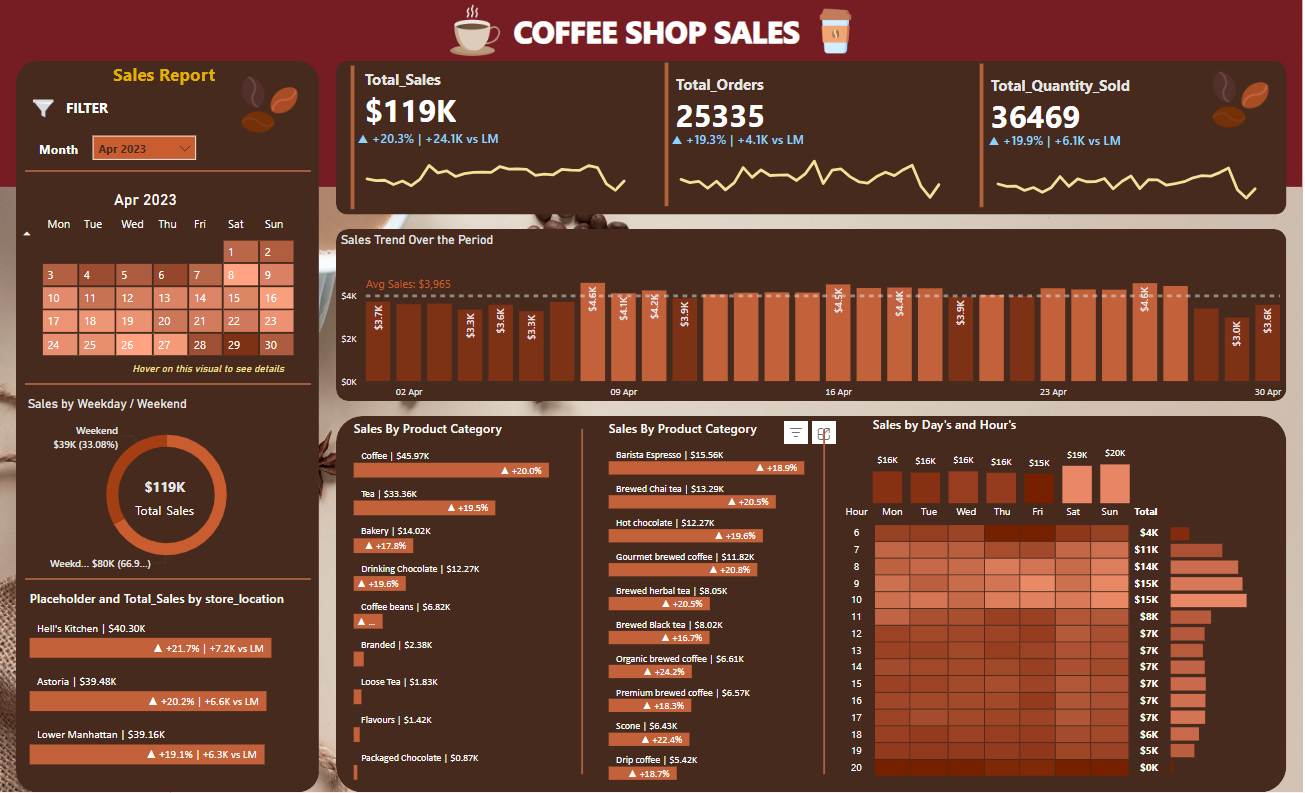

This screenshot's page, from the dashboard's own definition file:
{"tool":"powerbi","page":{"name":"Page 1","canvas":[1400,850],"ordinal":0},"visuals":[{"type":"cardVisual","fields":{"Data":["Transactions.Total_Quantity_Sold"]},"box":[1047.9,63.8,314.8,164.7],"z":0,"group":"g3"},{"type":"shape","box":[361.2,446.2,1020,404],"z":0},{"type":"shape","box":[0,0,1398.5,200.5],"z":1000},{"type":"lineChart","fields":{"Category":["Date Table.Date.Variation.Date Hierarchy.Year","Date Table.Date.Variation.Date Hierarchy.Quarter","Date Table.Date.Variation.Date Hierarchy.Month","Date Table.Date.Variation.Date Hierarchy.Day"],"Y":["Transactions.Total_Quantity_Sold"]},"box":[1057.2,142.2,306,86.3],"z":1000,"group":"g3"},{"type":"shape","box":[361.2,65.1,1020,164.7],"z":2000},{"type":"cardVisual","fields":{"Data":["Transactions.Total_Sales"]},"box":[371.9,65.1,314.8,164.7],"z":2000,"group":"g1"},{"type":"shape","box":[18.6,65.1,325.4,784.9],"z":3000},{"type":"lineChart","fields":{"Category":["Date Table.Date.Variation.Date Hierarchy.Year","Date Table.Date.Variation.Date Hierarchy.Quarter","Date Table.Date.Variation.Date Hierarchy.Month","Date Table.Date.Variation.Date Hierarchy.Day"],"Y":["Transactions.Total_Sales"]},"box":[379.9,139.5,306,86.3],"z":3000,"group":"g1"},{"type":"textbox","box":[547.2,6.6,326.7,58.4],"z":4000},{"type":"slicer","fields":{"Values":["Date Table.Month_year"]},"box":[95.3,140.8,120.9,34.5],"z":5000},{"type":"group","id":"g1","title":"Group 1","box":[371.9,65.1,314.8,164.7],"z":6000},{"type":"cardVisual","fields":{"Data":["Transactions.Total_Orders"]},"box":[709.9,62.4,314.8,164.7],"z":6500,"group":"g2"},{"type":"group","id":"g2","title":"Group 2","box":[709.9,62.4,314.8,164.7],"z":7000},{"type":"lineChart","fields":{"Category":["Date Table.Date.Variation.Date Hierarchy.Year","Date Table.Date.Variation.Date Hierarchy.Quarter","Date Table.Date.Variation.Date Hierarchy.Month","Date Table.Date.Variation.Date Hierarchy.Day"],"Y":["Transactions.Total_Orders"]},"box":[717.9,140.8,306.8,86.3],"z":7500,"group":"g2"},{"type":"group","id":"g3","title":"Group 3","box":[1047.9,63.8,315.3,164.7],"z":8000},{"type":"pivotTable","fields":{"Rows":["Date Table.Week Number"],"Columns":["Date Table.Day Name"],"Values":["Min(Date Table.DAY Number)"]},"box":[15.9,222.8,313.4,189.9],"z":9000},{"type":"card","fields":{"Values":["Min(Date Table.Month_year)"]},"box":[107.6,197.6,99.6,34.5],"z":10000},{"type":"card","fields":{"Values":["Transactions.Foot Note"]},"box":[128.8,382.2,191.2,30.5],"z":11000},{"type":"shape","box":[27.9,170,306.8,27.9],"z":12000},{"type":"shape","box":[27.9,398.4,306.8,27.9],"z":13000},{"type":"donutChart","title":"Sales by Weekday / Weekend","fields":{"Category":["Date Table.Weekday / Weekend"],"Y":["Transactions.Total_Sales"]},"box":[25.2,426.3,308.1,195.2],"z":14000},{"type":"card","fields":{"Values":["Transactions.Total_Sales"]},"box":[135.5,508.7,85,49.1],"z":15000},{"type":"shape","box":[27.9,607,306.8,27.9],"z":16000},{"type":"clusteredBarChart","fields":{"Category":["Transactions.store_location"],"Y":["Transactions.Placeholder","Transactions.Total_Sales"]},"box":[27.9,633.5,304.1,195.2],"z":17000},{"type":"shape","box":[361.2,245.7,1020,184.6],"z":18000},{"type":"columnChart","title":"Sales Trend Over the Period","fields":{"Category":["Transactions.transaction_date"],"Y":["Transactions.Total_Sales"]},"box":[361.2,249.7,1020,185.9],"z":19000},{"type":"clusteredBarChart","title":"Sales By Product Category","fields":{"Y":["Transactions.Placeholder","Transactions.Total_Sales"],"Category":["Transactions.product_category"]},"box":[375.9,450.2,249.7,391.8],"z":20000},{"type":"shape","box":[613.6,460.9,23.9,370.5],"z":21000},{"type":"clusteredBarChart","title":"Sales By Product Category","fields":{"Y":["Transactions.Placeholder","Transactions.Total_Sales"],"Category":["Transactions.product_type"]},"box":[649.5,450.2,249.7,391.8],"z":22000},{"type":"shape","box":[873.9,460.9,23.9,370.5],"z":23000},{"type":"pivotTable","fields":{"Rows":["Transactions.Hour"],"Columns":["Date Table.Day Name"],"Values":["Transactions.Total_Sales"]},"box":[896.5,535.2,370.5,308.1],"z":24000},{"type":"barChart","fields":{"Category":["Transactions.Hour"],"Y":["Transactions.Total_Sales"]},"box":[1252.4,552.5,115.5,282.9],"z":25000},{"type":"columnChart","title":"Sales by Day''s and Hour''s","fields":{"Y":["Transactions.Total_Sales"],"Category":["Date Table.Day Name"]},"box":[932.3,446.2,286.9,99.6],"z":26000},{"type":"textbox","box":[23.6,146.1,66.4,30.5],"z":27000},{"type":"textbox","box":[98.3,62.4,156.7,35.9],"z":28000},{"type":"textbox","box":[61.1,99.6,66.4,30.5],"z":29000},{"type":"image","box":[27.9,93,38.5,45.2],"z":30000},{"type":"image","box":[863.3,4,70.4,58.4],"z":31000},{"type":"image","box":[475.5,0,71.7,65.1],"z":33000},{"type":"image","box":[1297.6,71.7,70.4,70.4],"z":34000},{"type":"image","box":[255,77,70.4,70.4],"z":35000}]}

Visuals, with their boxes in screenshot pixels (x1, y1, x2, y2), scaled from the page's 1400x850 canvas onto the 1305x793 screenshot:
cardVisual - Transactions.Total_Quantity_Sold: {"x1": 977, "y1": 60, "x2": 1270, "y2": 213}
shape: {"x1": 337, "y1": 416, "x2": 1287, "y2": 792}
shape: {"x1": 0, "y1": 0, "x2": 1304, "y2": 187}
lineChart - Date Table.Date.Variation.Date Hierarchy.Year x Date Table.Date.Variation.Date Hierarchy.Quarter: {"x1": 985, "y1": 133, "x2": 1271, "y2": 213}
shape: {"x1": 337, "y1": 61, "x2": 1287, "y2": 214}
cardVisual - Transactions.Total_Sales: {"x1": 347, "y1": 61, "x2": 640, "y2": 214}
shape: {"x1": 17, "y1": 61, "x2": 321, "y2": 792}
lineChart - Date Table.Date.Variation.Date Hierarchy.Year x Date Table.Date.Variation.Date Hierarchy.Quarter: {"x1": 354, "y1": 130, "x2": 639, "y2": 211}
textbox: {"x1": 510, "y1": 6, "x2": 815, "y2": 61}
slicer - Date Table.Month_year: {"x1": 89, "y1": 131, "x2": 202, "y2": 164}
"Group 1" group: {"x1": 347, "y1": 61, "x2": 640, "y2": 214}
cardVisual - Transactions.Total_Orders: {"x1": 662, "y1": 58, "x2": 955, "y2": 212}
"Group 2" group: {"x1": 662, "y1": 58, "x2": 955, "y2": 212}
lineChart - Date Table.Date.Variation.Date Hierarchy.Year x Date Table.Date.Variation.Date Hierarchy.Quarter: {"x1": 669, "y1": 131, "x2": 955, "y2": 212}
"Group 3" group: {"x1": 977, "y1": 60, "x2": 1271, "y2": 213}
pivotTable - Date Table.Week Number x Date Table.Day Name: {"x1": 15, "y1": 208, "x2": 307, "y2": 385}
card - Min(Date Table.Month_year): {"x1": 100, "y1": 184, "x2": 193, "y2": 217}
card - Transactions.Foot Note: {"x1": 120, "y1": 357, "x2": 298, "y2": 385}
shape: {"x1": 26, "y1": 159, "x2": 312, "y2": 185}
shape: {"x1": 26, "y1": 372, "x2": 312, "y2": 398}
"Sales by Weekday / Weekend" donutChart: {"x1": 23, "y1": 398, "x2": 311, "y2": 580}
card - Transactions.Total_Sales: {"x1": 126, "y1": 475, "x2": 206, "y2": 520}
shape: {"x1": 26, "y1": 566, "x2": 312, "y2": 592}
clusteredBarChart - Transactions.store_location x Transactions.Placeholder: {"x1": 26, "y1": 591, "x2": 309, "y2": 773}
shape: {"x1": 337, "y1": 229, "x2": 1287, "y2": 401}
"Sales Trend Over the Period" columnChart: {"x1": 337, "y1": 233, "x2": 1287, "y2": 406}
"Sales By Product Category" clusteredBarChart: {"x1": 350, "y1": 420, "x2": 583, "y2": 786}
shape: {"x1": 572, "y1": 430, "x2": 594, "y2": 776}
"Sales By Product Category" clusteredBarChart: {"x1": 605, "y1": 420, "x2": 838, "y2": 786}
shape: {"x1": 815, "y1": 430, "x2": 837, "y2": 776}
pivotTable - Transactions.Hour x Date Table.Day Name: {"x1": 836, "y1": 499, "x2": 1181, "y2": 787}
barChart - Transactions.Hour x Transactions.Total_Sales: {"x1": 1167, "y1": 515, "x2": 1275, "y2": 779}
"Sales by Day''s and Hour''s" columnChart: {"x1": 869, "y1": 416, "x2": 1136, "y2": 509}
textbox: {"x1": 22, "y1": 136, "x2": 84, "y2": 165}
textbox: {"x1": 92, "y1": 58, "x2": 238, "y2": 92}
textbox: {"x1": 57, "y1": 93, "x2": 119, "y2": 121}
image: {"x1": 26, "y1": 87, "x2": 62, "y2": 129}
image: {"x1": 805, "y1": 4, "x2": 870, "y2": 58}
image: {"x1": 443, "y1": 0, "x2": 510, "y2": 61}
image: {"x1": 1210, "y1": 67, "x2": 1275, "y2": 133}
image: {"x1": 238, "y1": 72, "x2": 303, "y2": 138}
